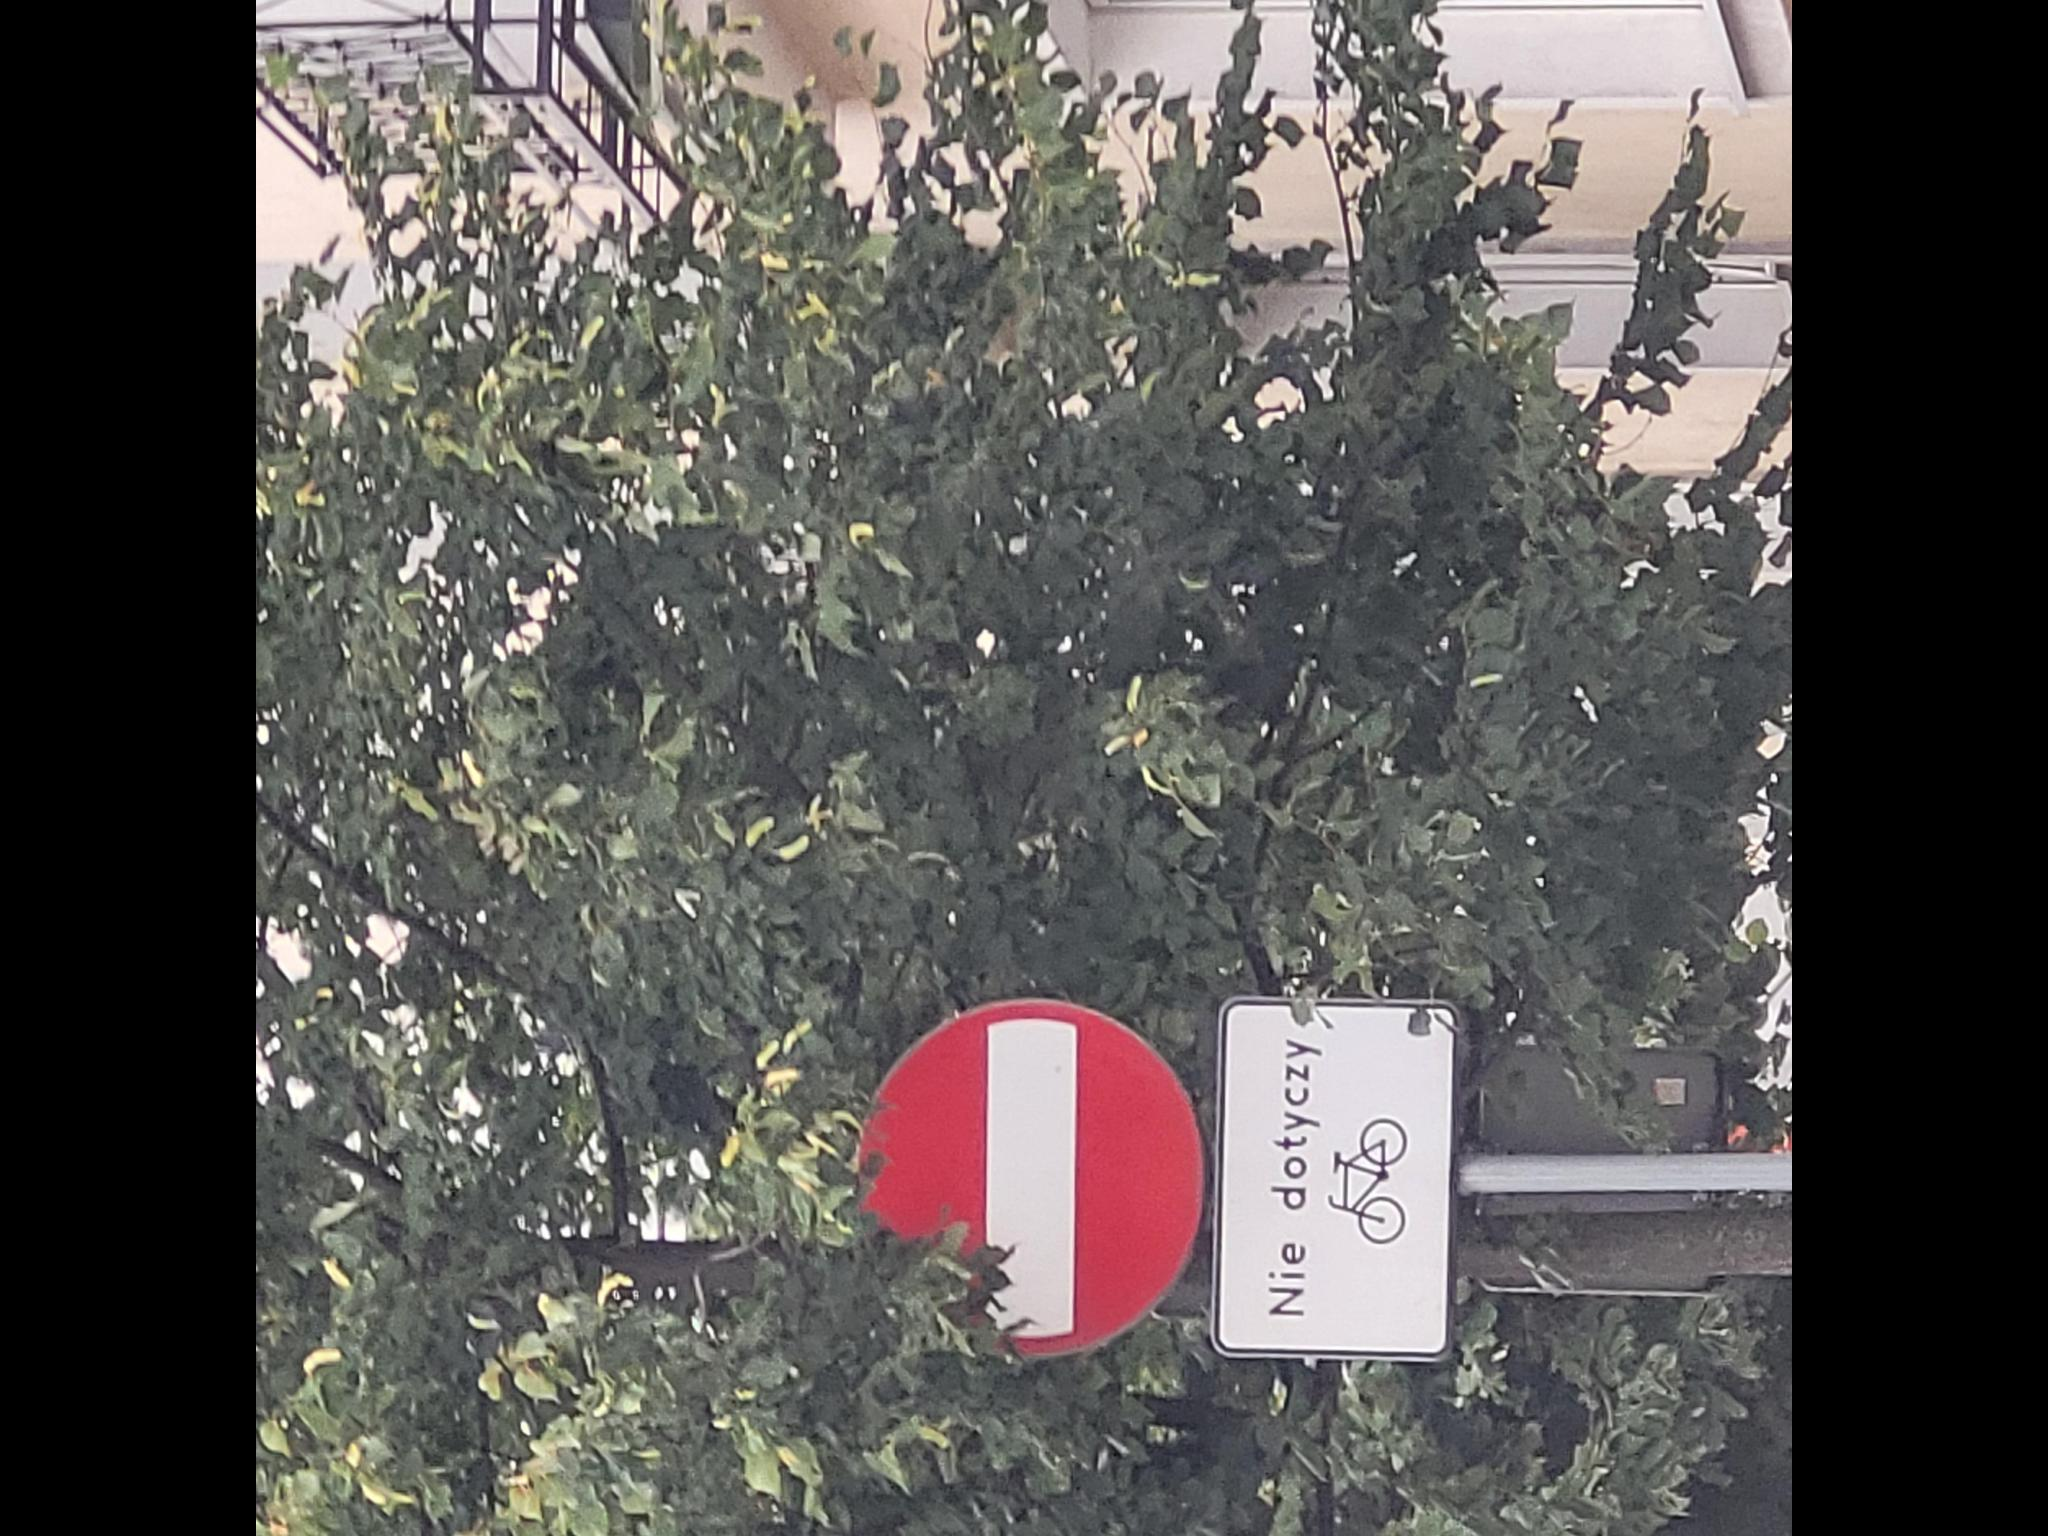other: (1219, 1007, 1445, 1347)
prohibitory: (861, 999, 1203, 1359)
